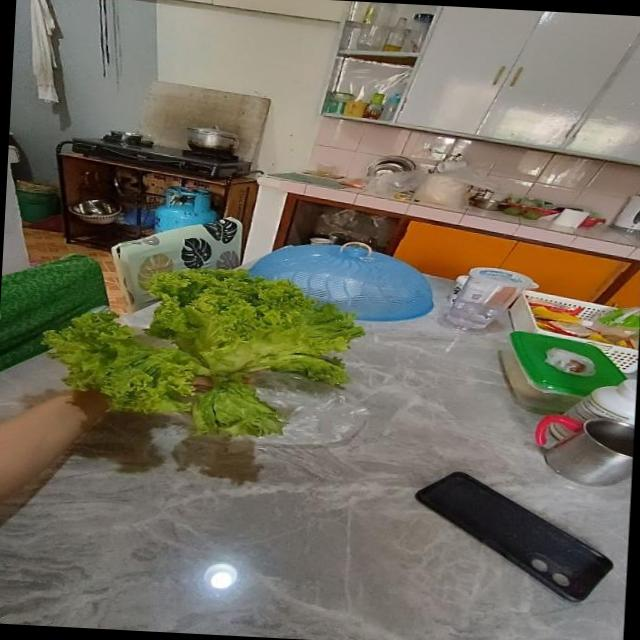Lettuce-Ready-to-Harvest: (44, 269, 363, 436)
